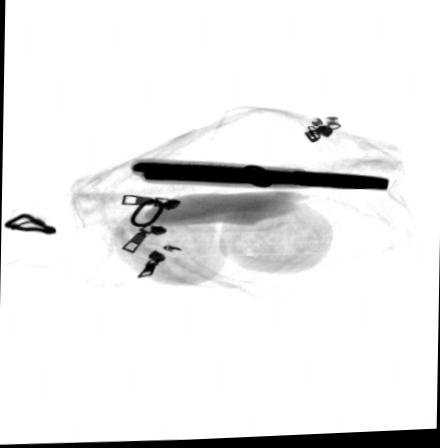Pliers: (130, 158, 390, 195)
